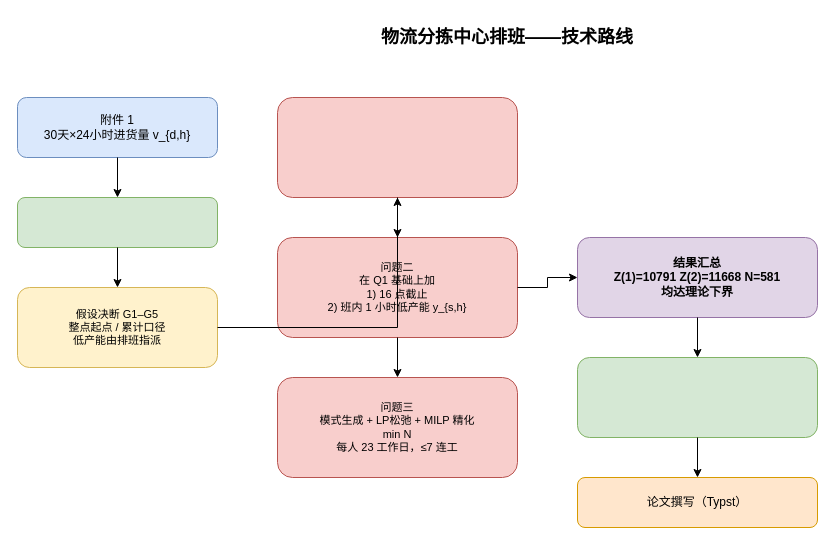
Some shapes in this 835 by 545 pixel diagram are drawn without their labels. Here are the shapes that lost their labels. From the top down, the centre of each, then its label:
At [397,147]: "问题一 每日 MILP（枚举 C(24,5)） min ∑ξ_s s.t. 累计产能 ≥ 累计进货".
At [117,222]: "EDA：节律 / 下界 L_d / 日间相关".
At [697,397]: "校验 下界对比 / 单调性 Z(2)≥Z(1) 约束逐条回代".
